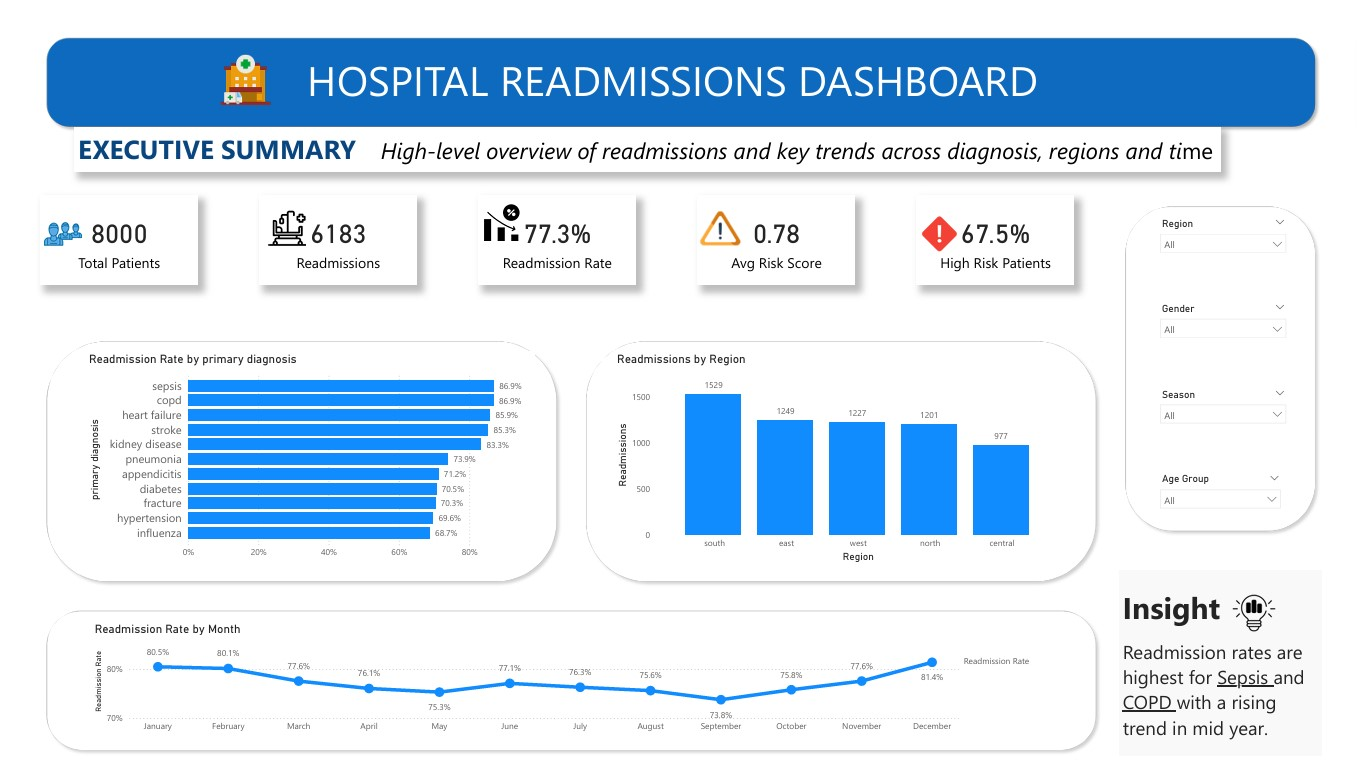

This screenshot's page, from the dashboard's own definition file:
{"tool":"powerbi","page":{"name":"Page 1","canvas":[1920,1080],"ordinal":0},"visuals":[{"type":"shape","box":[48,24,1824,144],"z":0},{"type":"shape","box":[1584,264,288,480],"z":1000},{"type":"shape","box":[48,840,1512,216],"z":2000},{"type":"shape","box":[816,456,744,360],"z":3000},{"type":"shape","box":[48,456,744,360],"z":4000},{"type":"shape","box":[72,240,264,168],"z":5000},{"type":"clusteredBarChart","fields":{"Category":["Table 1 (Sheet 1).primary_diagnosis"],"Y":["Table 1 (Sheet 1).Readmission Rate"]},"box":[112,480,640,304],"z":6000},{"type":"columnChart","fields":{"Category":["Table 1 (Sheet 1).region"],"Y":["Table 1 (Sheet 1).Readmissions"]},"box":[864,480,640,304],"z":7000},{"type":"lineChart","fields":{"Y":["Table 1 (Sheet 1).Readmission Rate"],"Category":["Table 1 (Sheet 1).admission_date.Variation.Date Hierarchy.Month"]},"box":[120,864,1344,168],"z":8000},{"type":"slicer","fields":{"Values":["Table 1 (Sheet 1).age_group"]},"box":[1632,648,192,72],"z":9000},{"type":"slicer","fields":{"Values":["Table 1 (Sheet 1).gender"]},"box":[1632,405.2,200,80],"z":10000},{"type":"slicer","fields":{"Values":["Table 1 (Sheet 1).region"]},"box":[1632,283.9,200,80],"z":11000},{"type":"slicer","fields":{"Values":["Table 1 (Sheet 1).season"]},"box":[1632,526.6,200,80],"z":12000},{"type":"textbox","box":[1584,792,288,264],"z":13000},{"type":"image","box":[1728,816,96,72],"z":14000},{"type":"textbox","box":[96,160,1632,64],"z":15000},{"type":"textbox","box":[168,48,1560,96],"z":16000},{"type":"card","fields":{"Values":["Table 1 (Sheet 1).Total Patients"]},"box":[48,257.6,224,128],"z":17000},{"type":"image","box":[48,240,64,144],"z":18000},{"type":"card","fields":{"Values":["Table 1 (Sheet 1).Readmissions"]},"box":[360,257.6,224,128],"z":19000},{"type":"card","fields":{"Values":["Table 1 (Sheet 1).Readmission Rate"]},"box":[672,257.6,224,128],"z":20000},{"type":"card","fields":{"Values":["Table 1 (Sheet 1).Avg Risk Score"]},"box":[984,257.6,224,128],"z":21000},{"type":"card","fields":{"Values":["Table 1 (Sheet 1).High Risk Patients"]},"box":[1296,257.6,224,128],"z":22000},{"type":"image","box":[1296,224,64,176],"z":23000},{"type":"image","box":[976,160,80,288],"z":24000},{"type":"image","box":[672,240,64,112],"z":25000},{"type":"image","box":[336,272,128,64],"z":26000},{"type":"image","box":[168,48,344,88],"z":27000}]}

Visuals, with their boxes in screenshot pixels (x1, y1, x2, y2), scaled from the page's 1920x1080 canvas onto the 1364x776 screenshot:
shape: (34,17,1330,121)
shape: (1125,190,1330,535)
shape: (34,604,1108,759)
shape: (580,328,1108,586)
shape: (34,328,563,586)
shape: (51,172,239,293)
clusteredBarChart - Table 1 (Sheet 1).primary_diagnosis x Table 1 (Sheet 1).Readmission Rate: (80,345,534,563)
columnChart - Table 1 (Sheet 1).region x Table 1 (Sheet 1).Readmissions: (614,345,1068,563)
lineChart - Table 1 (Sheet 1).Readmission Rate x Table 1 (Sheet 1).admission_date.Variation.Date Hierarchy.Month: (85,621,1040,742)
slicer - Table 1 (Sheet 1).age_group: (1159,466,1296,517)
slicer - Table 1 (Sheet 1).gender: (1159,291,1301,349)
slicer - Table 1 (Sheet 1).region: (1159,204,1301,261)
slicer - Table 1 (Sheet 1).season: (1159,378,1301,436)
textbox: (1125,569,1330,759)
image: (1228,586,1296,638)
textbox: (68,115,1228,161)
textbox: (119,34,1228,103)
card - Table 1 (Sheet 1).Total Patients: (34,185,193,277)
image: (34,172,80,276)
card - Table 1 (Sheet 1).Readmissions: (256,185,415,277)
card - Table 1 (Sheet 1).Readmission Rate: (477,185,637,277)
card - Table 1 (Sheet 1).Avg Risk Score: (699,185,858,277)
card - Table 1 (Sheet 1).High Risk Patients: (921,185,1080,277)
image: (921,161,966,287)
image: (693,115,750,322)
image: (477,172,523,253)
image: (239,195,330,241)
image: (119,34,364,98)
